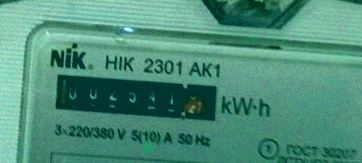0: (64, 78, 79, 100), (85, 78, 99, 100)
1: (164, 86, 176, 106)
2: (105, 81, 119, 102)
4: (145, 83, 159, 105)
5: (124, 81, 138, 104)
6: (185, 99, 197, 115)
screen: (43, 62, 228, 130)
